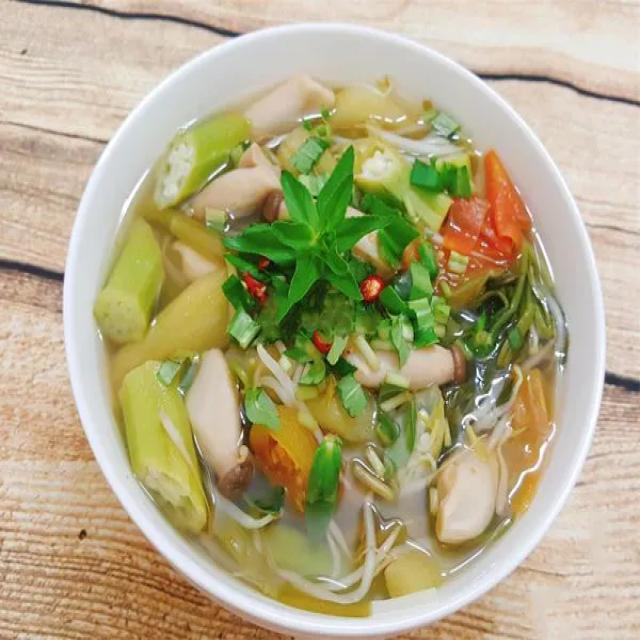canh chua: (95, 74, 559, 610)
rau ngo: (219, 146, 394, 349)
